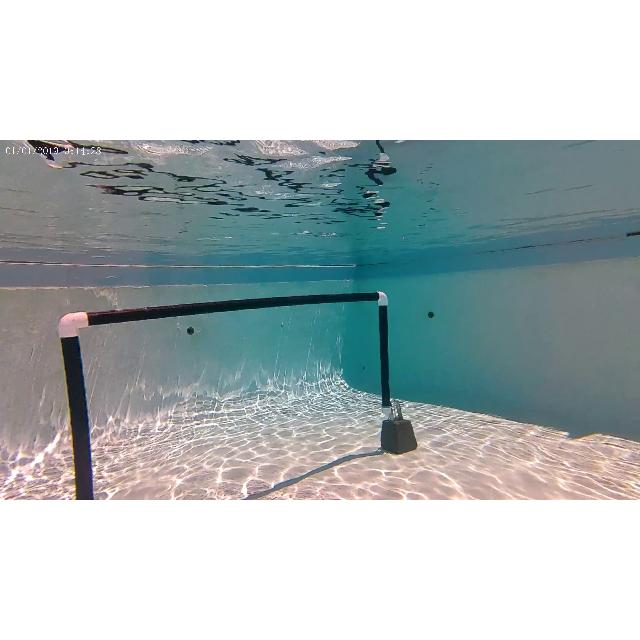prequal gate: (58, 290, 392, 500)
prequal gate leg l: (53, 306, 103, 500)
prequal gate leg r: (376, 293, 416, 455)
